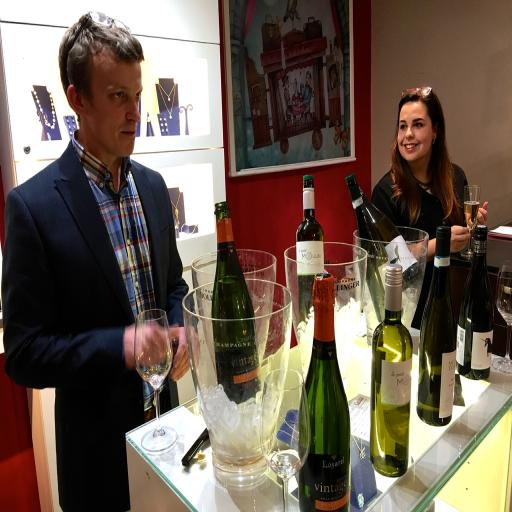Person: (2, 11, 198, 512), (367, 87, 488, 309)
